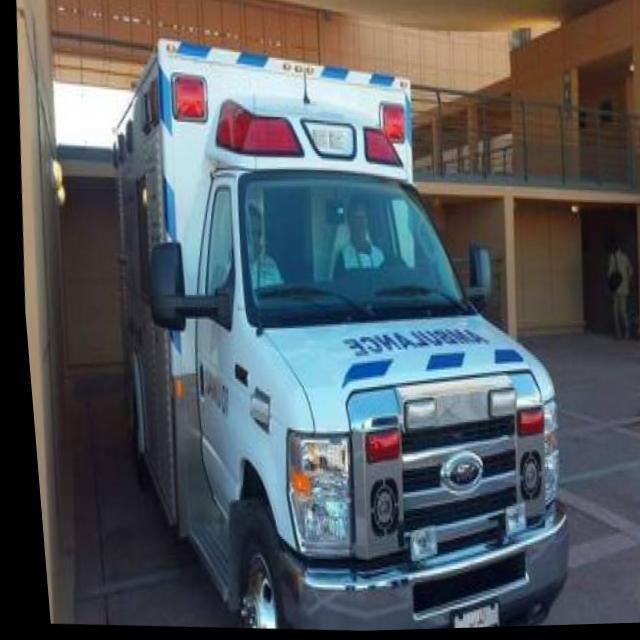ambulance: (67, 11, 604, 638)
